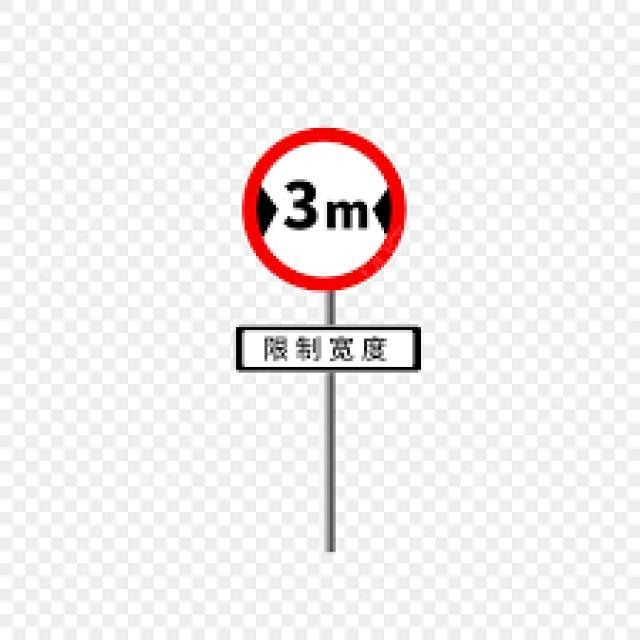width limit: (240, 127, 408, 293)
